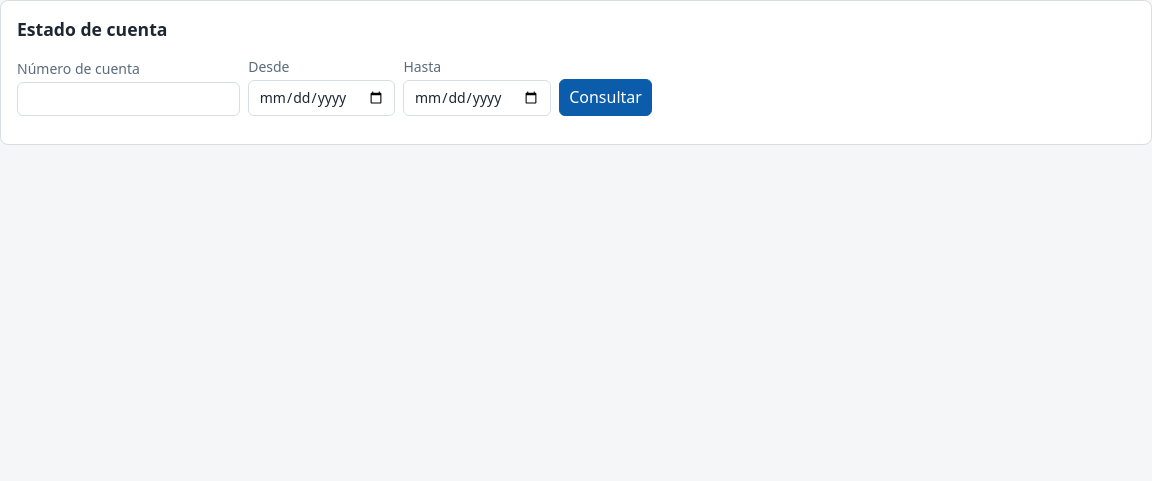
Scenario: PaginaEstadoDeCuenta › busca la cuenta por número y presenta saldo e historial
In the field labelled "Número de cuenta": (129, 99) 17,82 -> 240,116, type "5300000001"
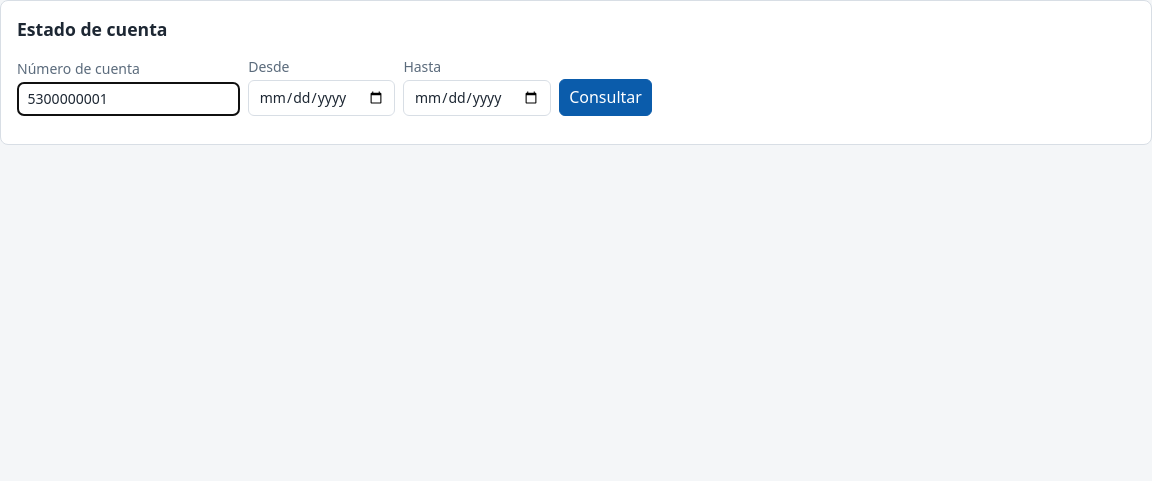
In the date field labelled "Desde": (322, 98) 248,80 -> 395,116, type "2026-11-01"
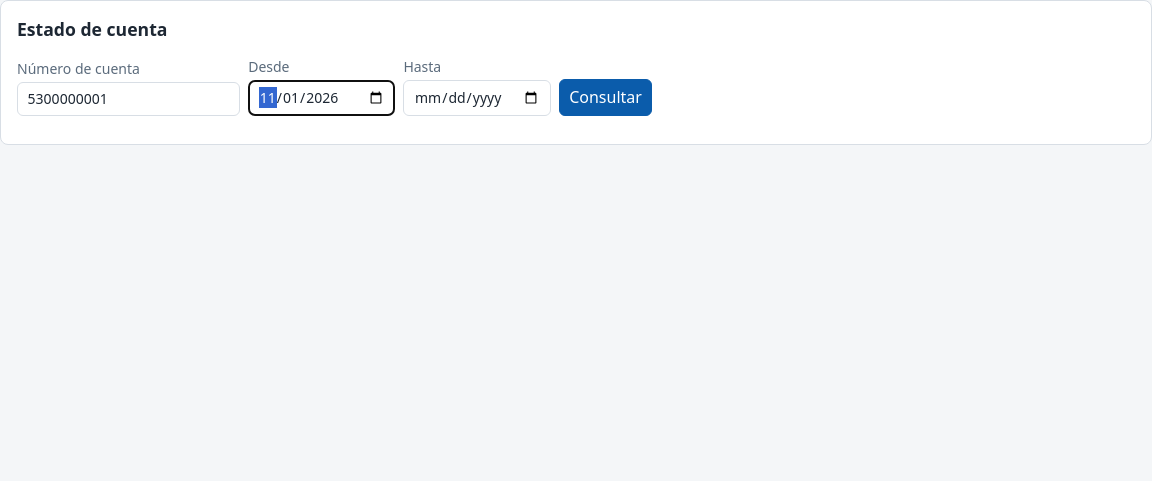
In the date field labelled "Hasta": (477, 98) 403,80 -> 551,116, type "2026-11-30"
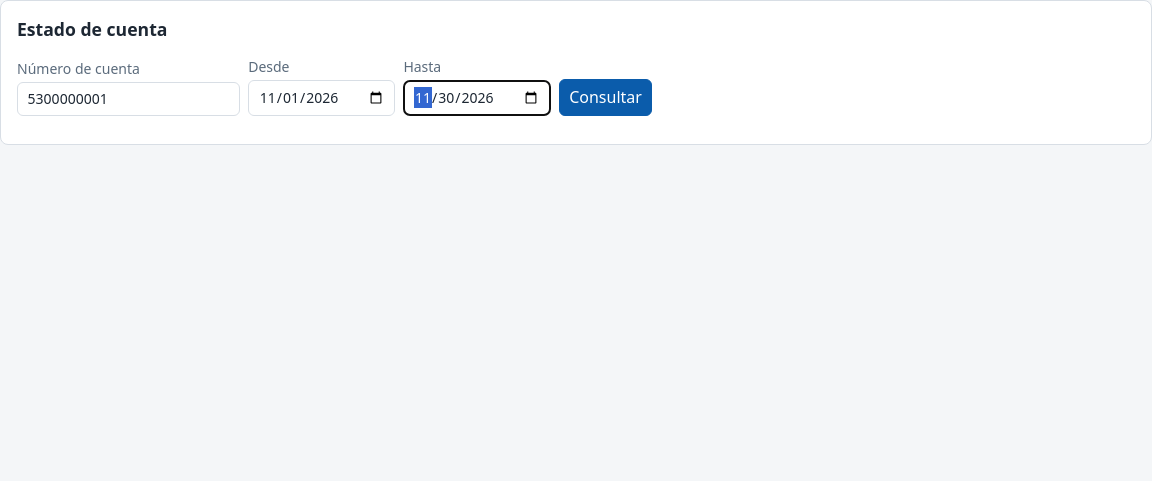
Click the button "Consultar": (606, 97) 559,79 -> 652,116
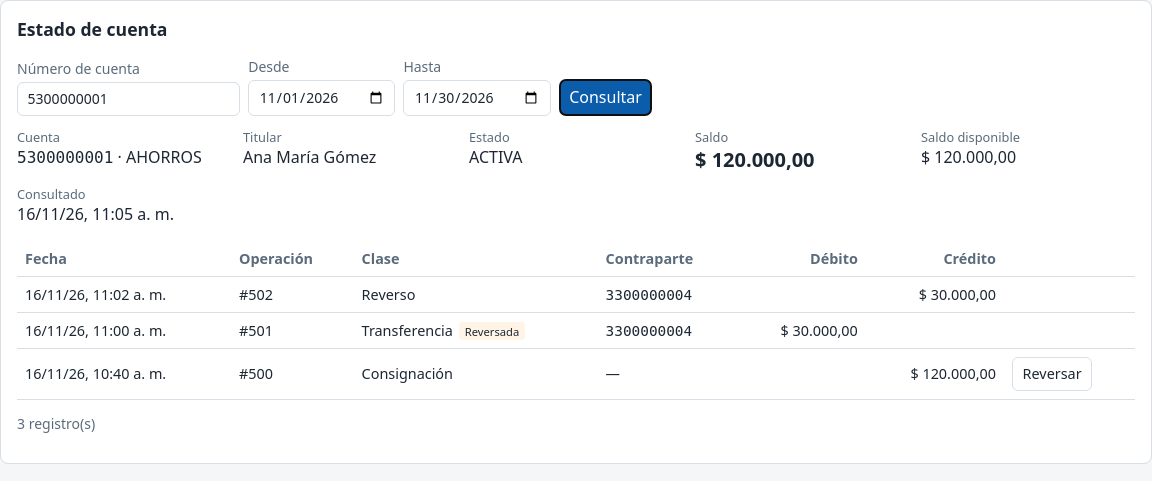
Result: the text "Ana María Gómez" is shown at 243,146 -> 376,168
Result: the text "Reversada" is shown at 459,322 -> 525,340
Result: the button "Reversar" is shown at 1012,357 -> 1092,391
